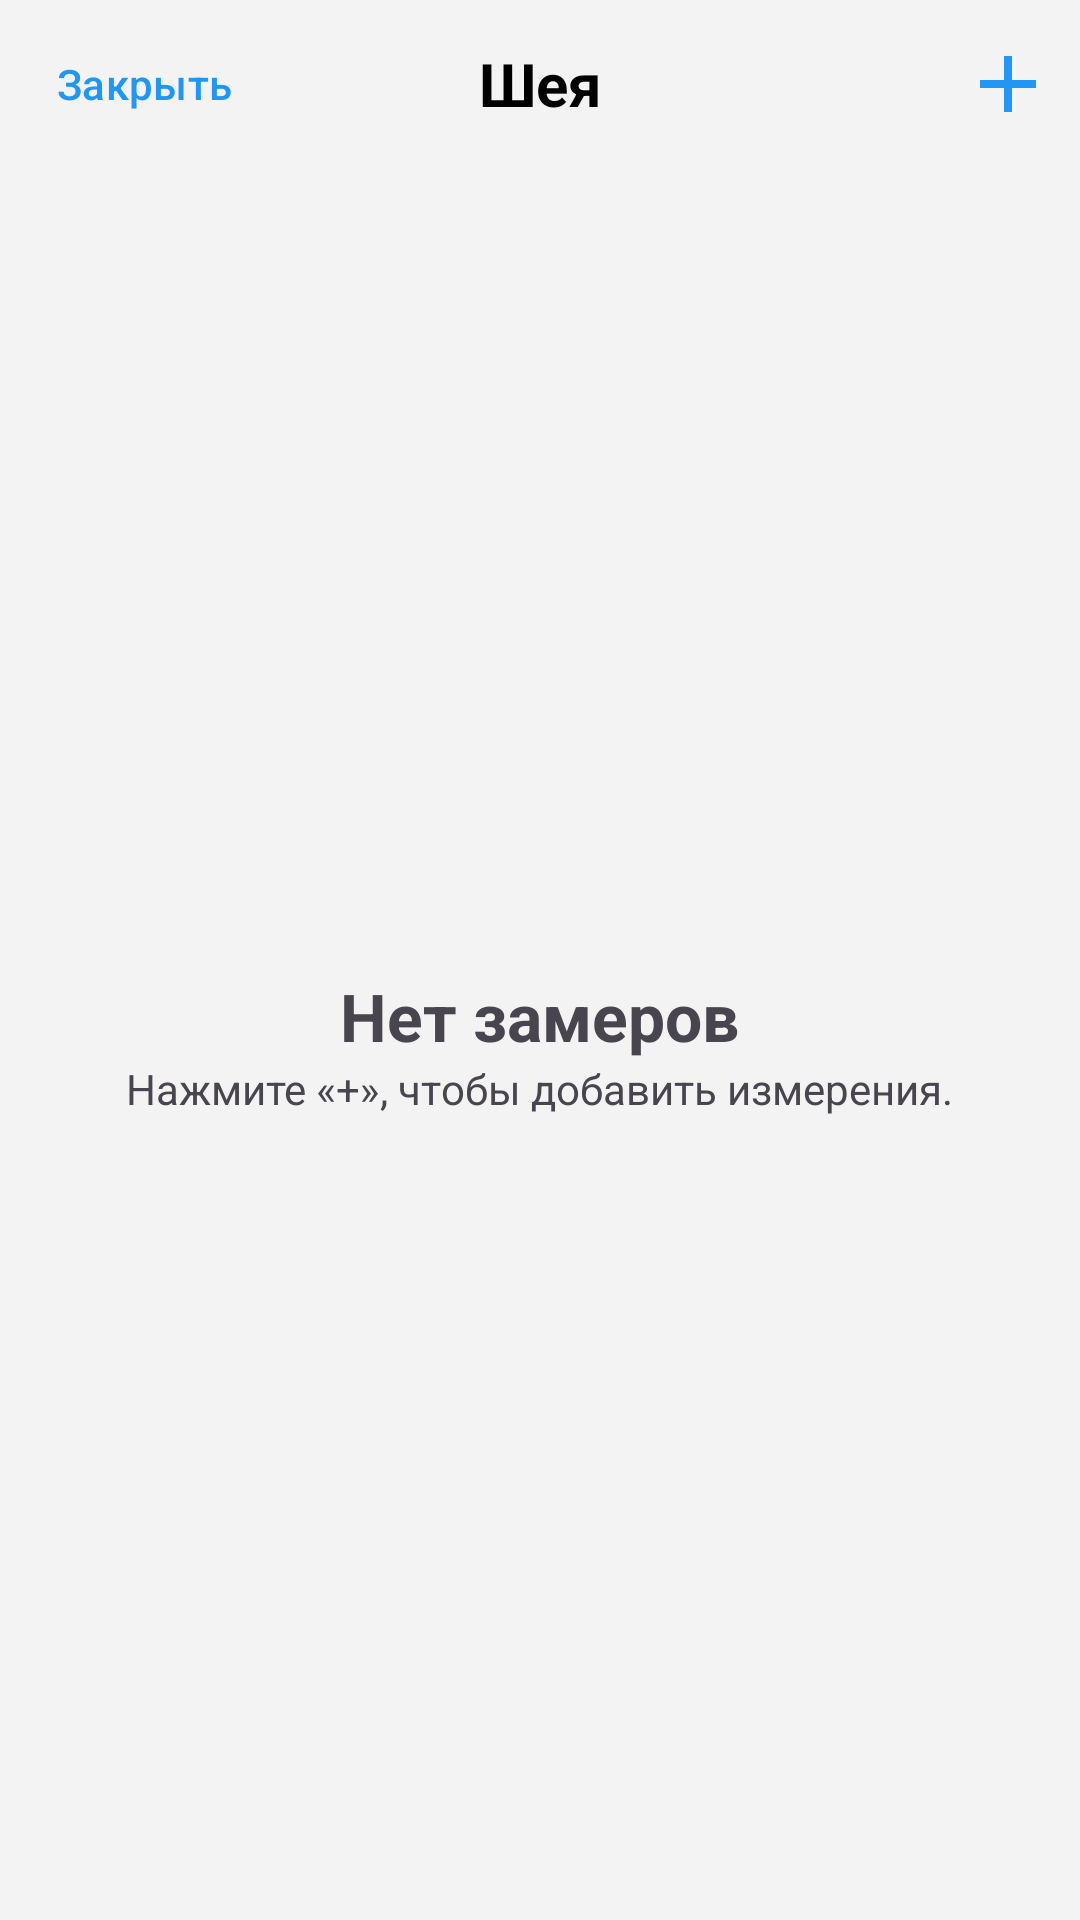

Where icons sit on this 1080×1920 app screen, as (x1, y1, x2, y2):
add for body: (980, 56, 1036, 112)
